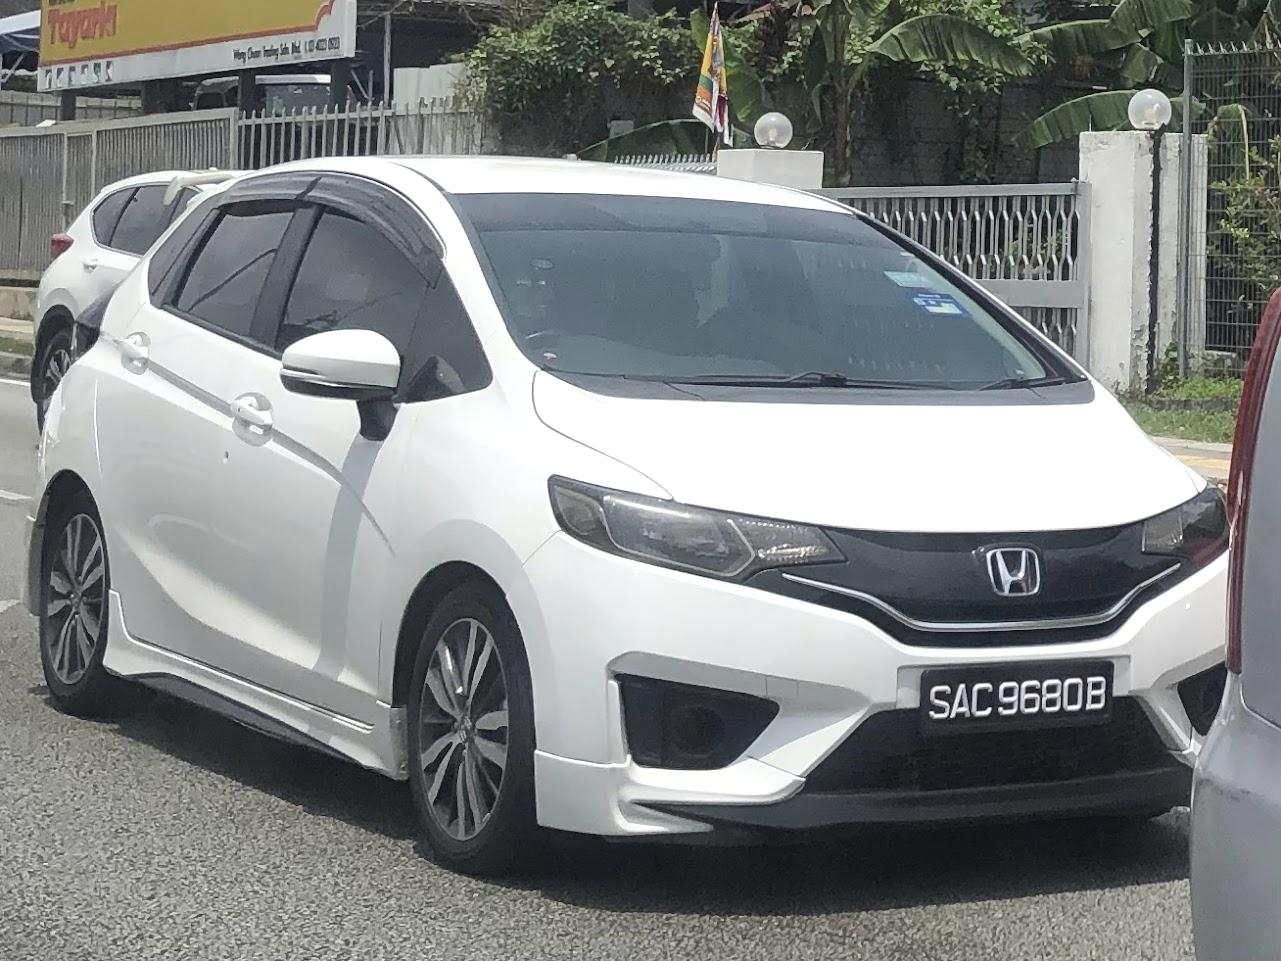License Plate: (925, 662, 1113, 730)
